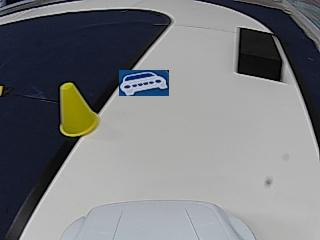block: (236, 27, 283, 81)
cone: (58, 84, 100, 136)
